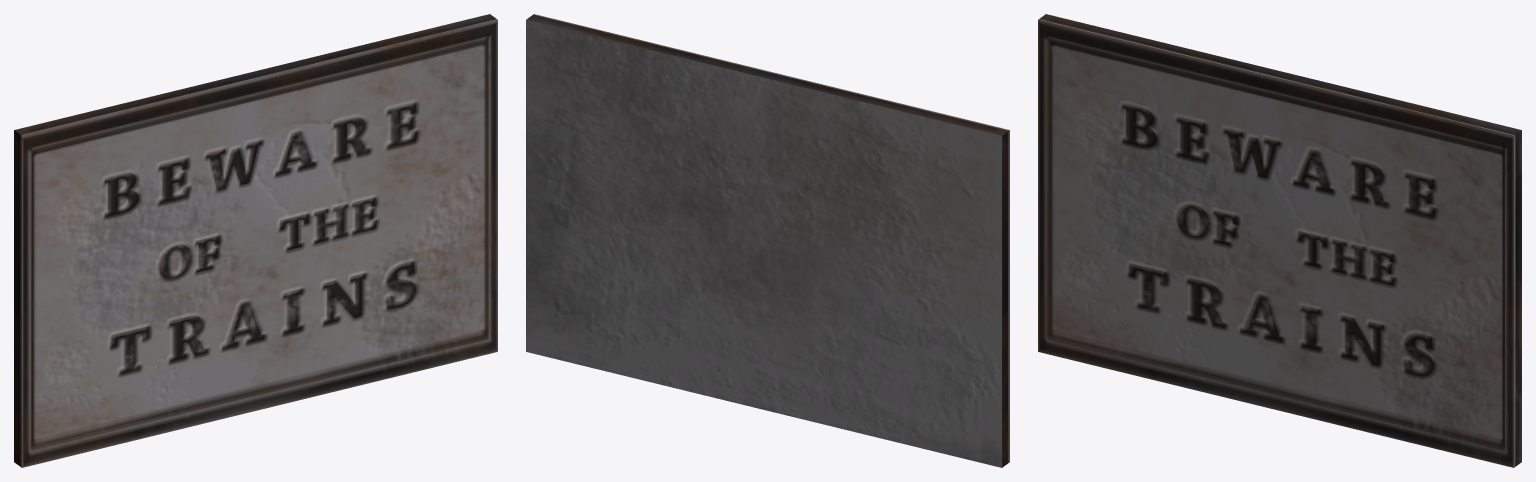
File: BewareOfTrainsSign_Scaled.fbx
The picture shows the model from 3 angles, left to right: view 1: azimuth 30°, elevation 25°; view 2: azimuth 150°, elevation 25°; view 3: azimuth 330°, elevation 25°; orthographic projection.
Parts seen in each view (by area): view 1: BewareOfTrainsSign; view 2: BewareOfTrainsSign; view 3: BewareOfTrainsSign.
Boxes of the visible parts, x1,y1,x2,y2 form: BewareOfTrainsSign: [14, 14, 497, 467]; BewareOfTrainsSign: [526, 14, 1009, 467]; BewareOfTrainsSign: [1038, 14, 1521, 467].
Size of the model in its own units: 115 by 77.01 by 3.32.
